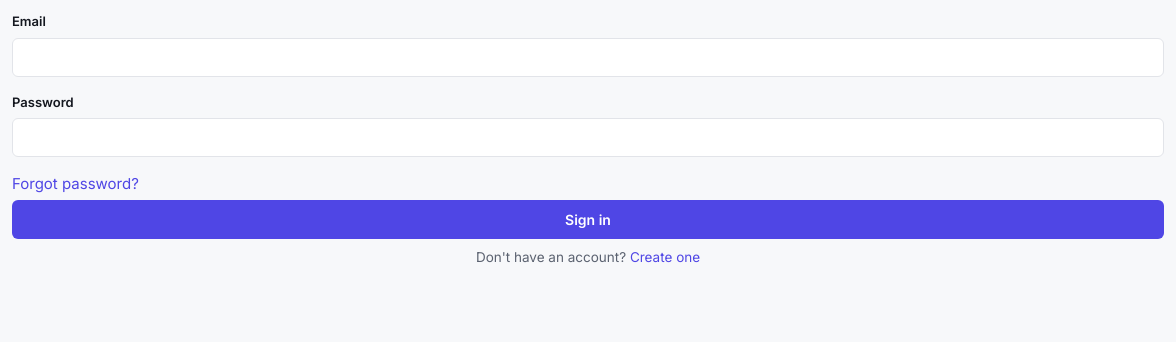
Test case: LoginForm › shows a generic invalid-credentials message on a 401 response
Type "ada@example.com" into the field labelled "Email". click: x=588, y=57
box: [12,38,1164,76]
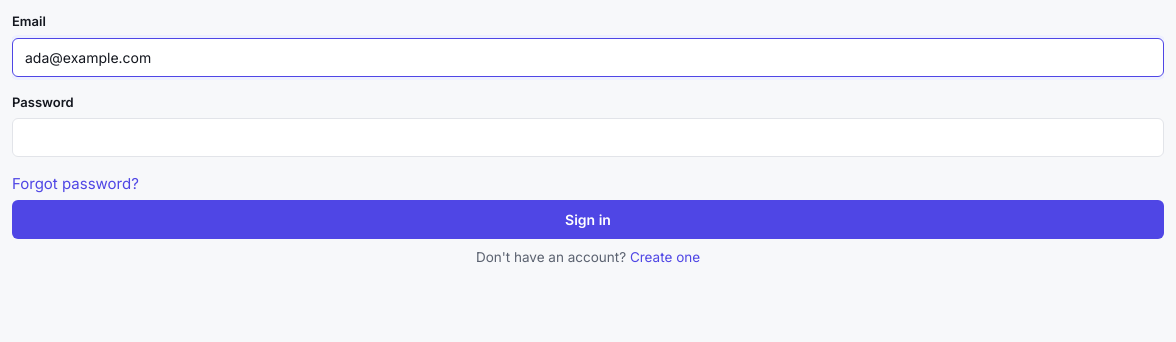
Type "wrong-password-123" into the password field labelled "Password". click: x=588, y=138
box: [12,118,1164,157]
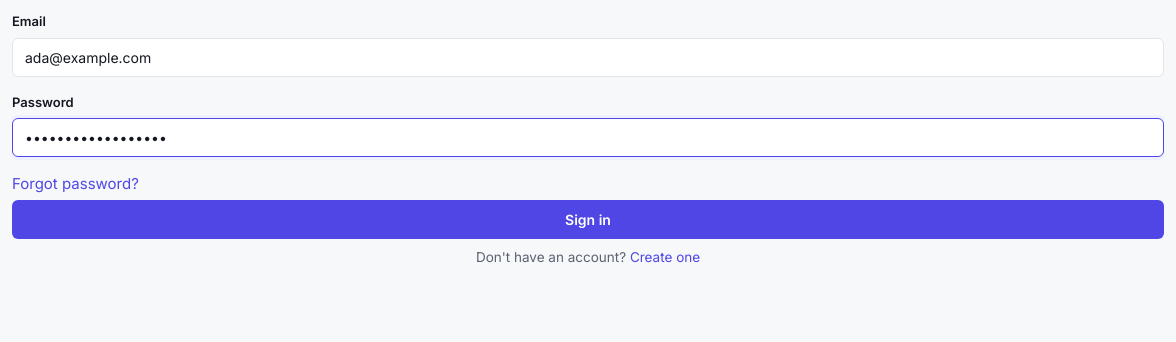
Click the button "Sign in". click: x=588, y=219
box: [12,200,1164,238]
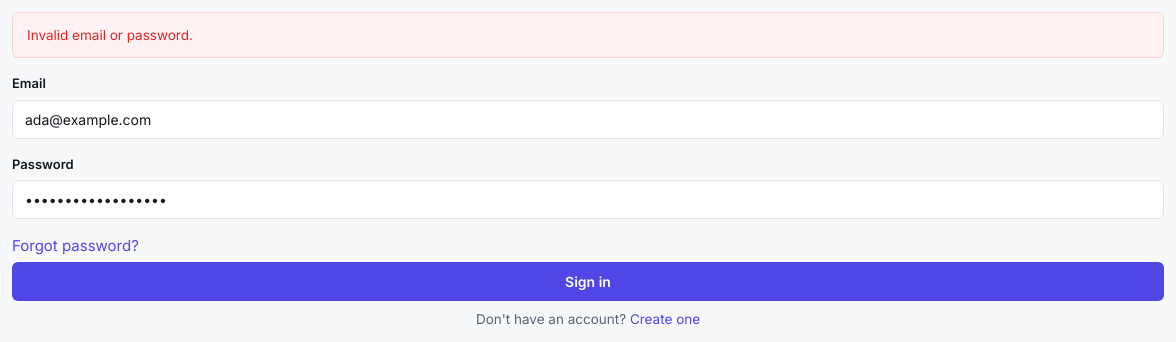
Expected: the text "Invalid email or password." is shown, [12,12,1164,58]
